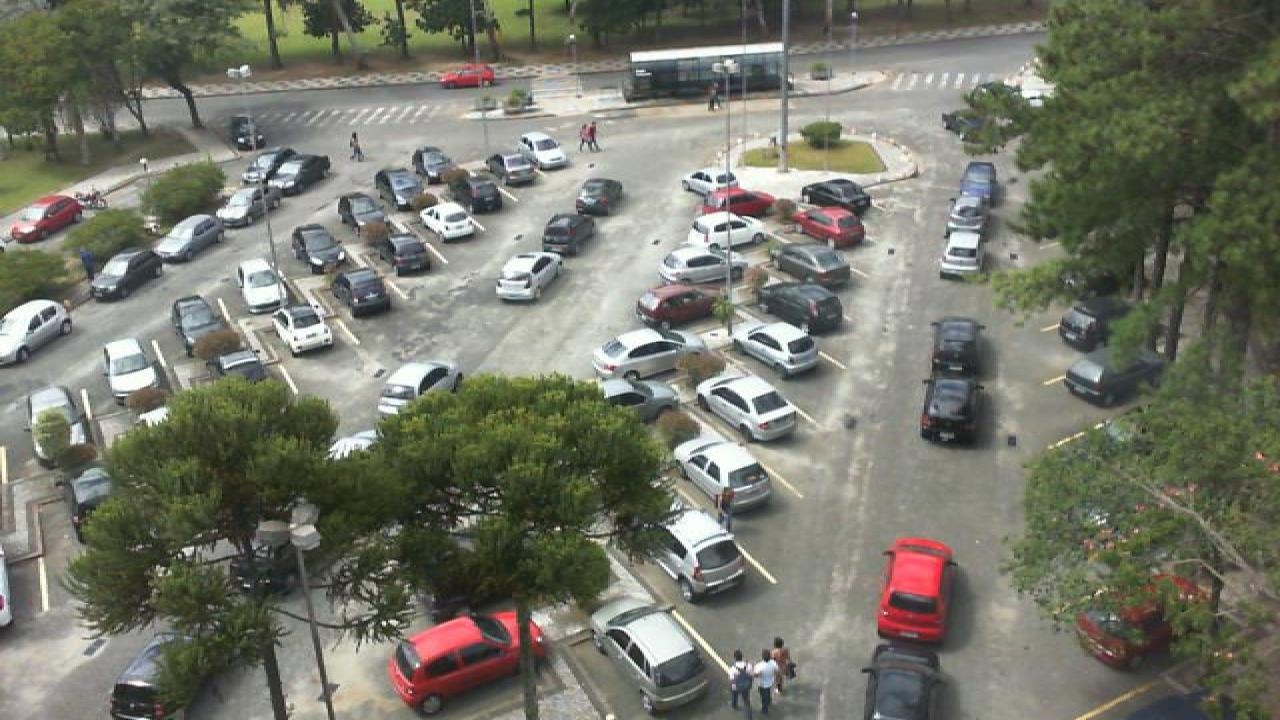Car: (384, 606, 550, 715), (590, 593, 712, 720), (636, 503, 750, 605), (876, 536, 958, 644), (670, 436, 776, 518), (104, 631, 196, 720), (692, 372, 802, 444), (1060, 344, 1170, 408), (864, 642, 944, 720), (374, 359, 464, 421), (726, 320, 822, 378), (590, 327, 690, 382), (0, 297, 78, 367), (756, 283, 848, 338), (596, 369, 682, 425), (630, 282, 728, 328), (922, 373, 982, 446), (100, 338, 162, 406), (88, 250, 166, 302), (770, 242, 854, 290), (6, 194, 86, 244), (490, 251, 564, 303), (654, 246, 744, 288), (150, 212, 224, 262), (684, 210, 772, 252), (1054, 287, 1110, 350), (786, 204, 866, 248), (930, 317, 988, 377), (168, 295, 228, 352), (290, 221, 352, 274), (70, 462, 118, 530), (236, 256, 292, 314), (280, 304, 338, 360), (332, 263, 392, 317), (238, 148, 306, 192), (798, 177, 876, 215), (538, 210, 598, 258), (418, 201, 482, 242), (384, 231, 438, 279), (274, 151, 330, 197), (938, 227, 986, 277), (696, 187, 778, 216), (376, 170, 428, 214), (338, 190, 392, 232), (570, 177, 626, 217), (216, 345, 270, 386), (218, 184, 268, 228), (456, 170, 506, 214), (482, 148, 538, 187), (948, 194, 996, 238), (678, 168, 746, 199), (520, 131, 572, 171), (954, 158, 998, 202), (414, 146, 458, 187), (234, 111, 266, 153)
